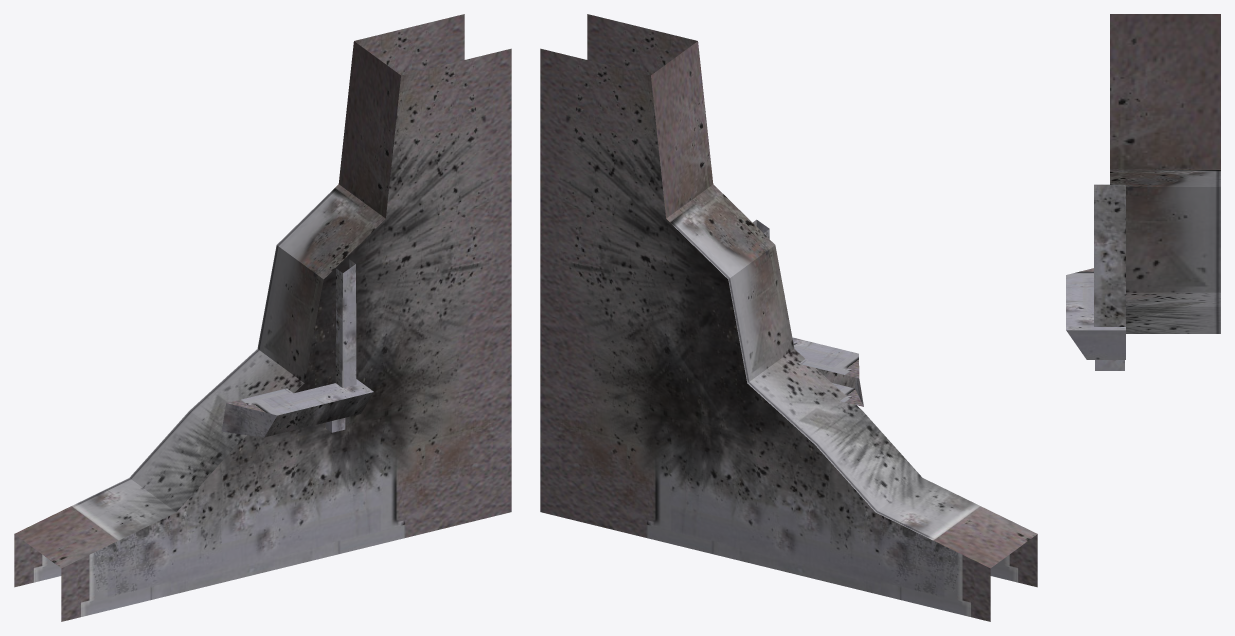
The model's file is bruch_gr2.obj.
The picture shows the model from 3 angles, left to right: view 1: azimuth 30°, elevation 25°; view 2: azimuth 150°, elevation 25°; view 3: azimuth 270°, elevation 25°; orthographic projection. The views are drawn at different scales.
Parts seen in each view (by area): view 1: polySurface187; view 2: polySurface187; view 3: polySurface187.
Boxes of the visible parts, x1,y1,x2,y2 form: polySurface187: [14, 14, 511, 621]; polySurface187: [540, 14, 1037, 621]; polySurface187: [1066, 14, 1220, 370].
Bounding box in the file's own units: 1.02 × 1 × 0.2575.
1 material, 1 textured.
